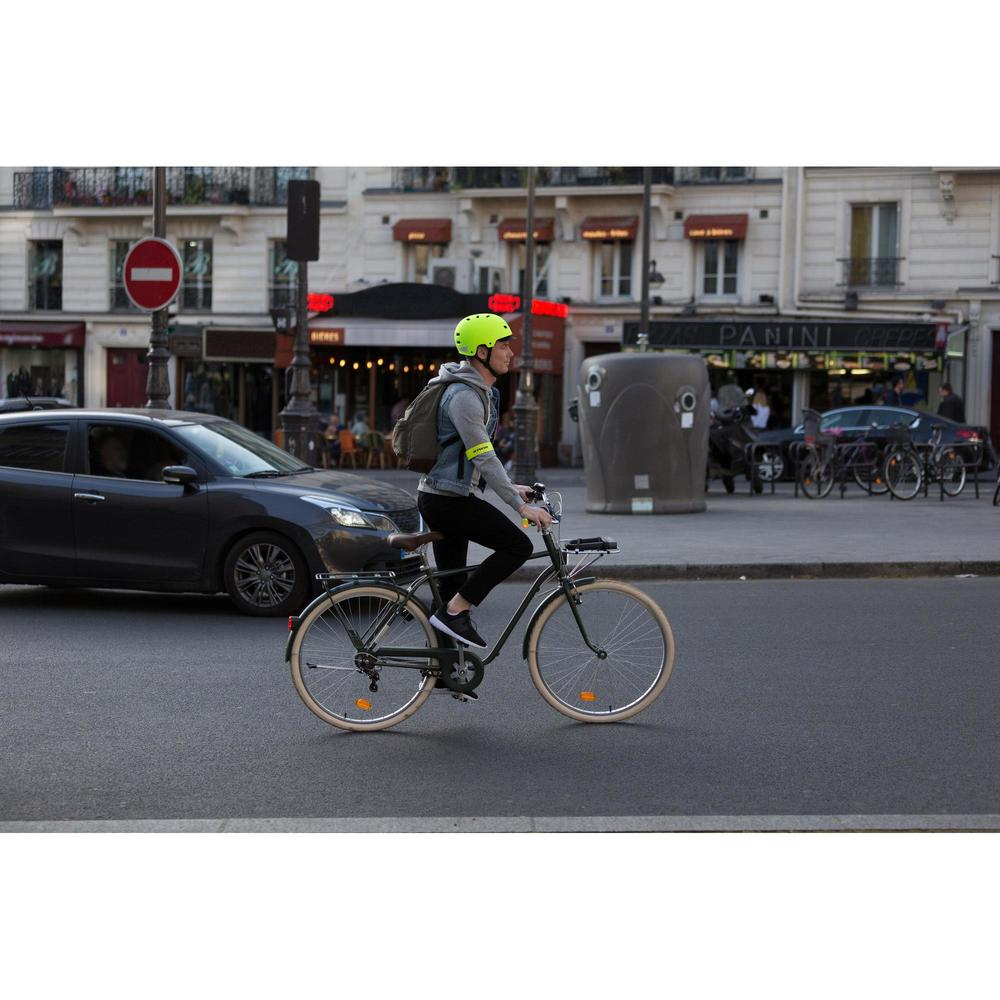UrbanBike: (284, 516, 677, 731)
